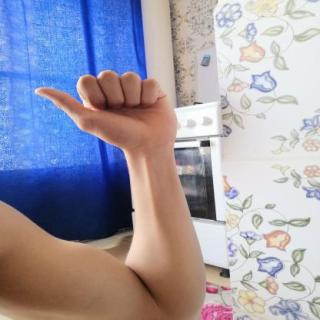DAD: (26, 64, 187, 156)
